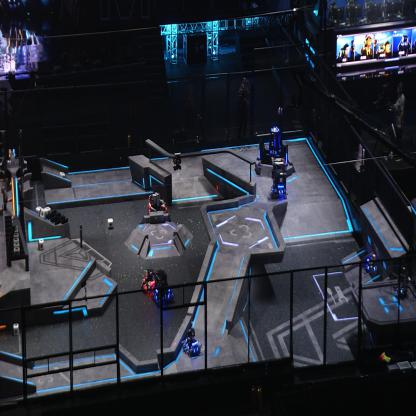car: (150, 268, 174, 306), (271, 157, 288, 197), (182, 327, 202, 357), (147, 193, 168, 219), (365, 249, 383, 276), (139, 266, 157, 293)
